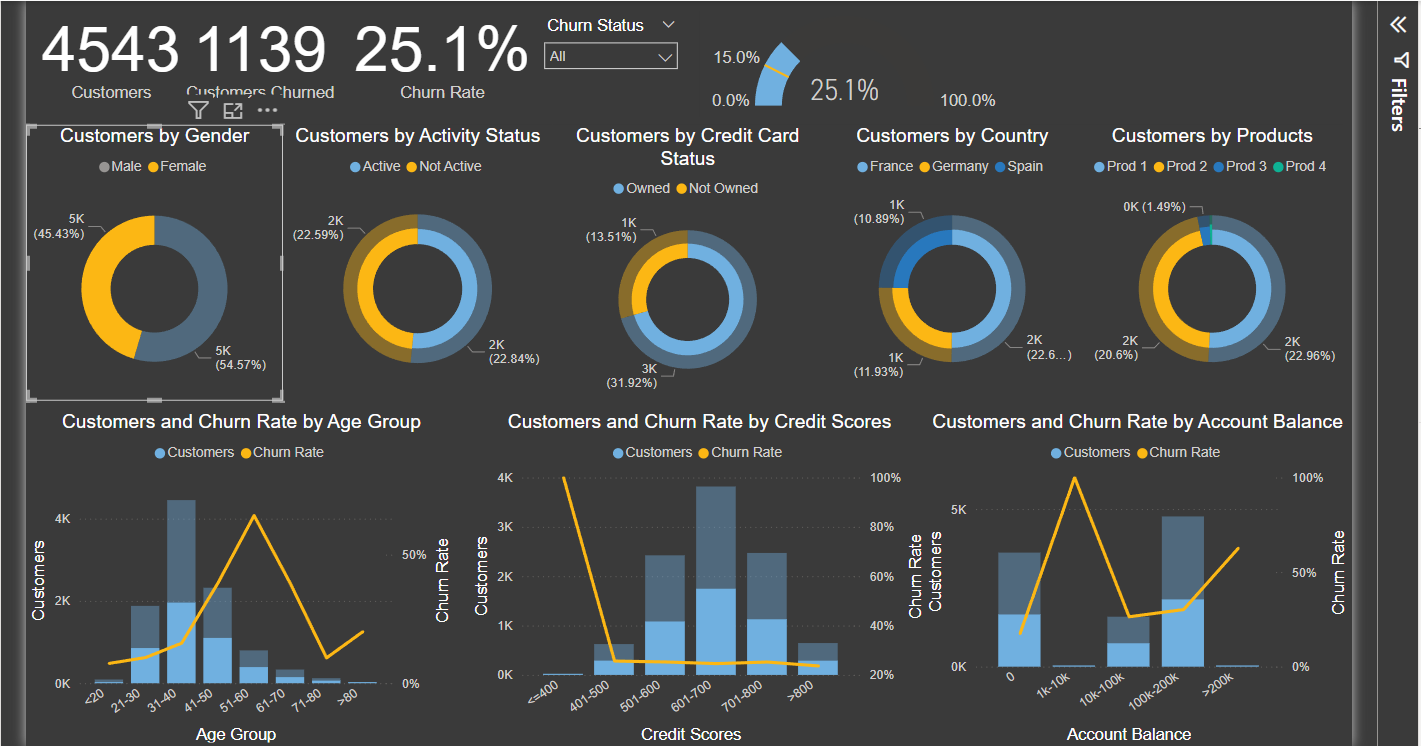

The dashboard page shown, as its layout file describes it:
{"tool":"powerbi","page":{"name":"Page 1","canvas":[1280,720],"ordinal":0},"visuals":[{"type":"card","fields":{"Values":["Customer Data.Customers"]},"box":[9.8,0,145.5,101.5],"z":0},{"type":"card","fields":{"Values":["Customer Data.Customers Churned"]},"box":[146.8,0,157.8,101.5],"z":1},{"type":"card","fields":{"Values":["Customer Data.Churn Rate"]},"box":[304.6,0,193.5,101.5],"z":2},{"type":"donutChart","fields":{"Category":["Customer Data.Gender"],"Y":["Customer Data.Customers"]},"box":[0,119.4,248.4,266.2],"z":3},{"type":"donutChart","fields":{"Y":["Customer Data.Customers"],"Category":["Customer Data.Activity Status"]},"box":[248.4,119.4,259.3,266.2],"z":4},{"type":"donutChart","fields":{"Y":["Customer Data.Customers"],"Category":["Customer Data.Credit Card Status"]},"box":[509.1,119.4,259.3,266.2],"z":5},{"type":"donutChart","fields":{"Y":["Customer Data.Customers"],"Category":["Customer Data.Country"]},"box":[768.4,119.4,251.1,266.2],"z":6},{"type":"donutChart","fields":{"Y":["Customer Data.Customers"],"Category":["Customer Data.Products"]},"box":[1019.6,119.4,251.1,266.2],"z":7},{"type":"lineClusteredColumnComboChart","fields":{"Category":["Age Group ID.Age Group"],"Y":["Customer Data.Customers"],"Y2":["Customer Data.Churn Rate"]},"box":[0,395.2,415.8,325.2],"z":8},{"type":"lineClusteredColumnComboChart","fields":{"Y":["Customer Data.Customers"],"Y2":["Customer Data.Churn Rate"],"Category":["Credit Scores ID.Credit Scores"]},"box":[426.8,395.2,446,325.2],"z":9},{"type":"lineClusteredColumnComboChart","fields":{"Y":["Customer Data.Customers"],"Y2":["Customer Data.Churn Rate"],"Category":["Acct Balance ID.Account Balance"]},"box":[864.5,395.2,415.8,325.2],"z":10},{"type":"slicer","fields":{"Values":["Customer Data.Churn Status"]},"box":[489.9,9.6,149.6,91.9],"z":11},{"type":"gauge","fields":{"Y":["Customer Data.Churn Rate"],"MinValue":["Min(Customer Data.Minimum Churn Rate)"],"MaxValue":["Max(Customer Data.Maximum Churn Rate)"],"TargetValue":["Min(Customer Data.Target Churn Rate)"]},"box":[650.4,9.6,297.8,101.5],"z":12}]}

Visuals, with their boxes in screenshot pixels (x1, y1, x2, y2):
card - Customer Data.Customers: box=[117, 18, 266, 122]
card - Customer Data.Customers Churned: box=[258, 18, 419, 122]
card - Customer Data.Churn Rate: box=[419, 18, 617, 122]
donutChart - Customer Data.Gender x Customer Data.Customers: box=[107, 141, 362, 413]
donutChart - Customer Data.Customers x Customer Data.Activity Status: box=[362, 141, 627, 413]
donutChart - Customer Data.Customers x Customer Data.Credit Card Status: box=[629, 141, 894, 413]
donutChart - Customer Data.Customers x Customer Data.Country: box=[894, 141, 1151, 413]
donutChart - Customer Data.Customers x Customer Data.Products: box=[1151, 141, 1408, 413]
lineClusteredColumnComboChart - Age Group ID.Age Group x Customer Data.Customers: box=[107, 423, 533, 745]
lineClusteredColumnComboChart - Customer Data.Customers x Customer Data.Churn Rate: box=[544, 423, 1001, 745]
lineClusteredColumnComboChart - Customer Data.Customers x Customer Data.Churn Rate: box=[992, 423, 1418, 745]
slicer - Customer Data.Churn Status: box=[609, 28, 762, 122]
gauge - Customer Data.Churn Rate x Min(Customer Data.Minimum Churn Rate): box=[773, 28, 1078, 132]
